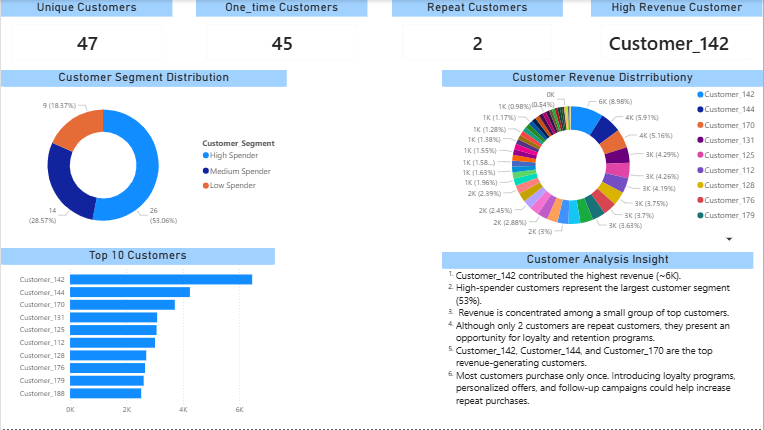

This screenshot's page, from the dashboard's own definition file:
{"tool":"powerbi","page":{"name":"Customer Analysis","canvas":[1280,720],"ordinal":4},"visuals":[{"type":"barChart","title":"Top 10 Customers","fields":{"Category":["Cleaned_messy_data.Customer_Name"],"Y":["Sum(Cleaned_messy_data.Total)"]},"box":[0,416.7,460,303.3],"z":0},{"type":"cardVisual","title":"Unique Customers","fields":{"Data":["Count(Cleaned_messy_data.Customer_Name)"]},"box":[0,0,288.3,118.3],"z":1000},{"type":"cardVisual","title":"One_time Customers","fields":{"Data":["Cleaned_messy_data.One_time_customers"]},"box":[328.3,0,288.3,118.3],"z":2000},{"type":"cardVisual","title":"Repeat Customers","fields":{"Data":["Cleaned_messy_data.Repeat_customers"]},"box":[656.7,0,286.7,118.3],"z":3000},{"type":"cardVisual","title":"High Revenue Customer","fields":{"Data":["Min(Cleaned_messy_data.Customer_Name)"]},"box":[991.7,0,288.3,118.3],"z":4000},{"type":"donutChart","title":"Customer Segment Distribution","fields":{"Category":["Cleaned_messy_data.Customer_Segment"],"Y":["CountNonNull(Cleaned_messy_data.Customer_Name)"]},"box":[0,118.3,480,296.7],"z":5000},{"type":"donutChart","title":"Customer Revenue Distrributiony  ","fields":{"Category":["Cleaned_messy_data.Customer_Name"],"Y":["Sum(Cleaned_messy_data.Total)"]},"box":[740,118.3,540,296.7],"z":6000},{"type":"textbox","title":"Customer Analysis Insight","box":[740,423.3,523.3,296.7],"z":7000}]}

Visuals, with their boxes in screenshot pixels (x1, y1, x2, y2), scaled from the page's 1280x720 canvas onto the 764x430 screenshot:
"Top 10 Customers" barChart: left=0, top=249, right=275, bottom=429
"Unique Customers" cardVisual: left=0, top=0, right=172, bottom=71
"One_time Customers" cardVisual: left=196, top=0, right=368, bottom=71
"Repeat Customers" cardVisual: left=392, top=0, right=563, bottom=71
"High Revenue Customer" cardVisual: left=592, top=0, right=763, bottom=71
"Customer Segment Distribution" donutChart: left=0, top=71, right=286, bottom=248
"Customer Revenue Distrributiony  " donutChart: left=442, top=71, right=763, bottom=248
"Customer Analysis Insight" textbox: left=442, top=253, right=754, bottom=429
